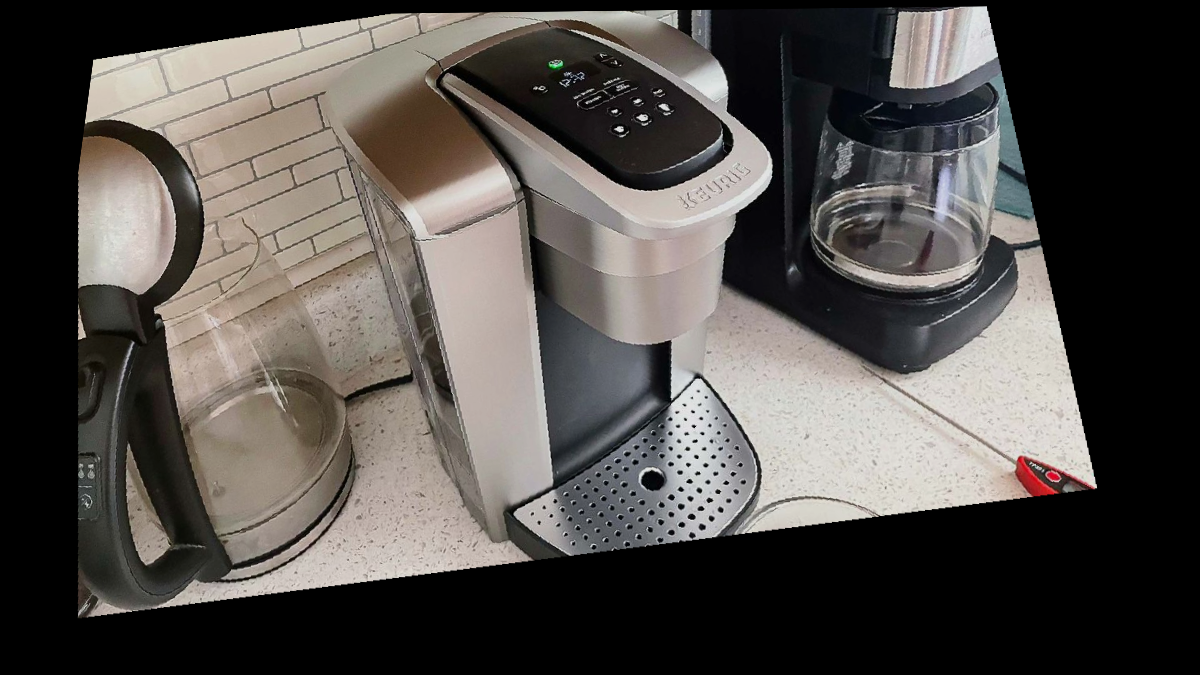10oz: (631, 110, 654, 127)
12oz: (655, 100, 678, 117)
4oz: (606, 106, 623, 117)
6oz: (629, 96, 646, 107)
8oz: (608, 123, 631, 138)
add_water: (569, 77, 602, 103)
descale: (597, 62, 631, 88)
hot: (605, 75, 640, 103)
iced: (649, 87, 666, 98)
power: (548, 58, 566, 70)
strong: (576, 88, 611, 116)
